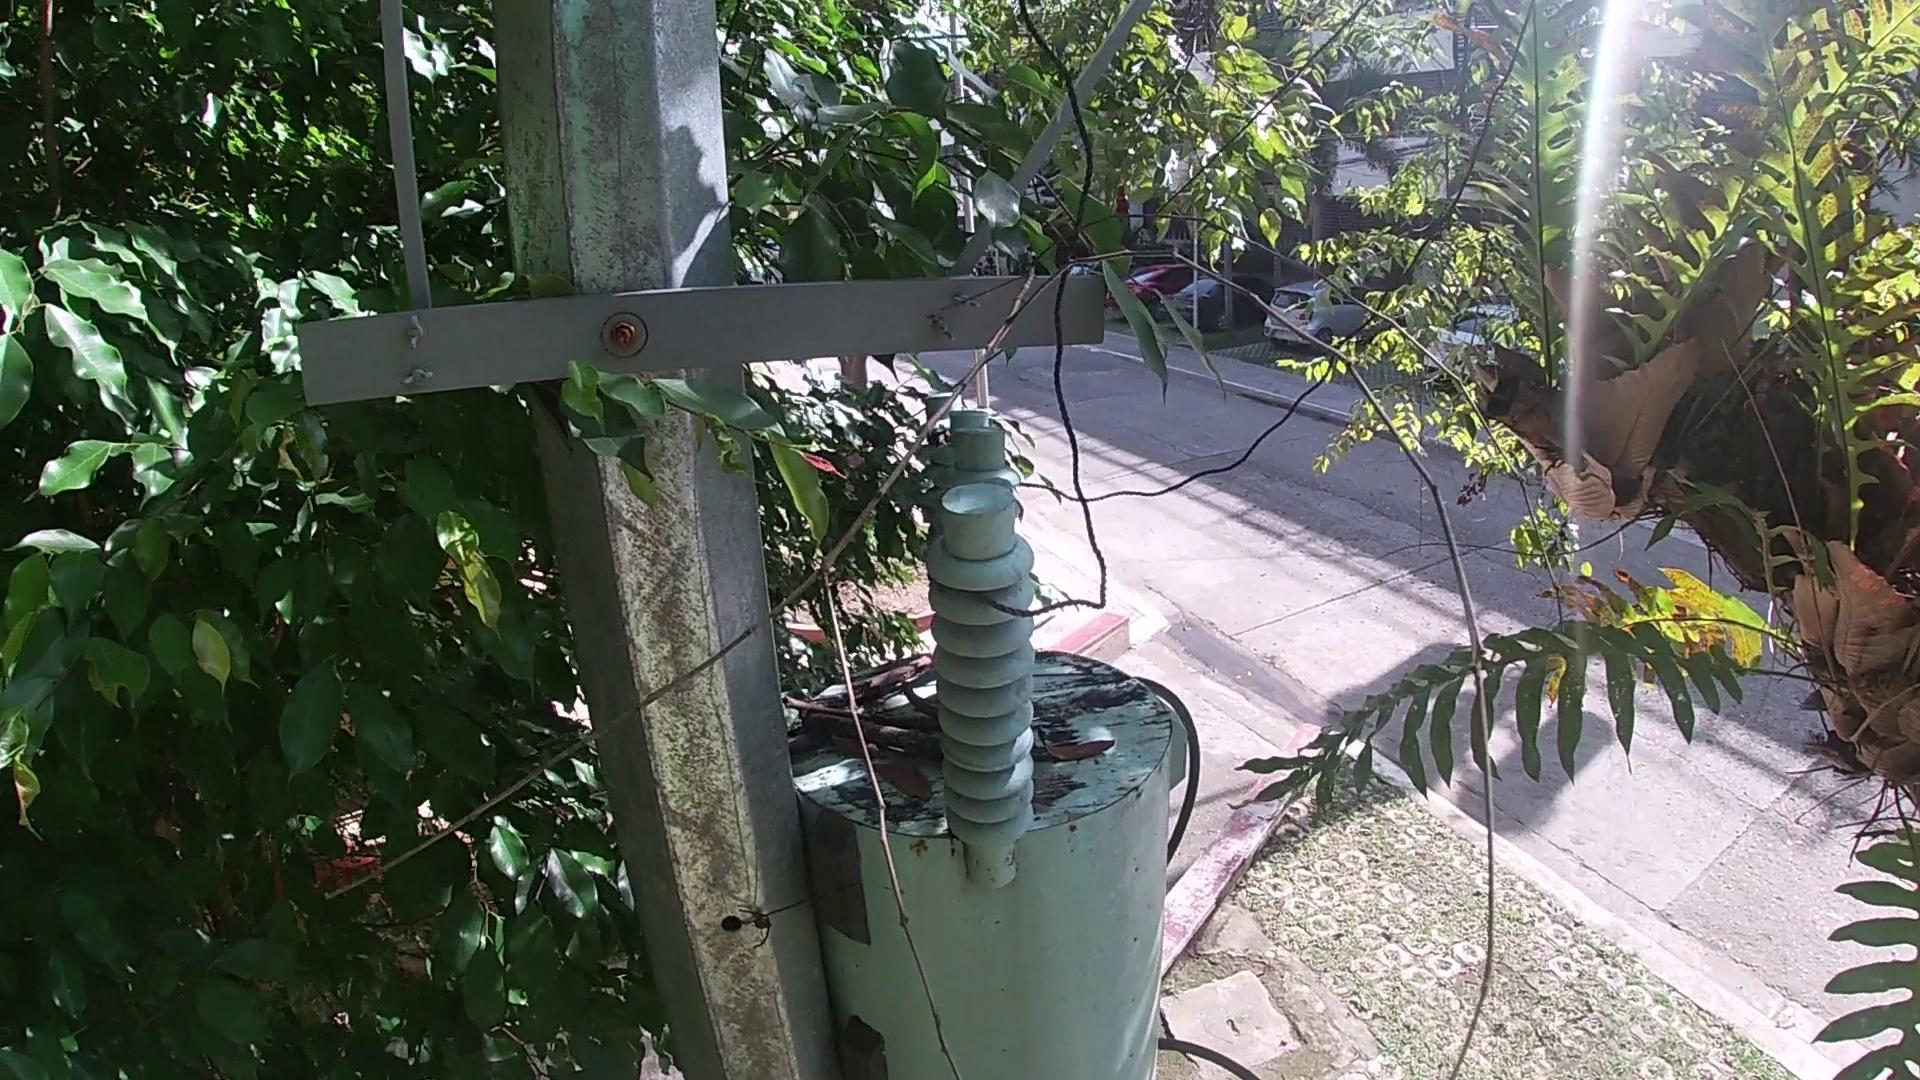leaf: (862, 754, 935, 806), (1035, 725, 1120, 764), (824, 732, 885, 764)
tree branch: (310, 212, 1520, 1077), (786, 703, 945, 764), (845, 653, 940, 703)
